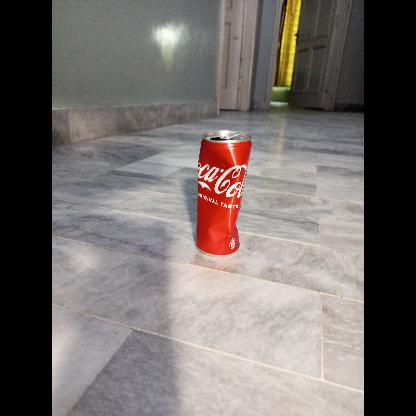Dent_Can: (199, 164, 247, 198), (208, 209, 231, 245), (215, 196, 228, 209)
Lid_Open: (209, 124, 243, 148)
Tin_Can: (194, 126, 254, 258)
